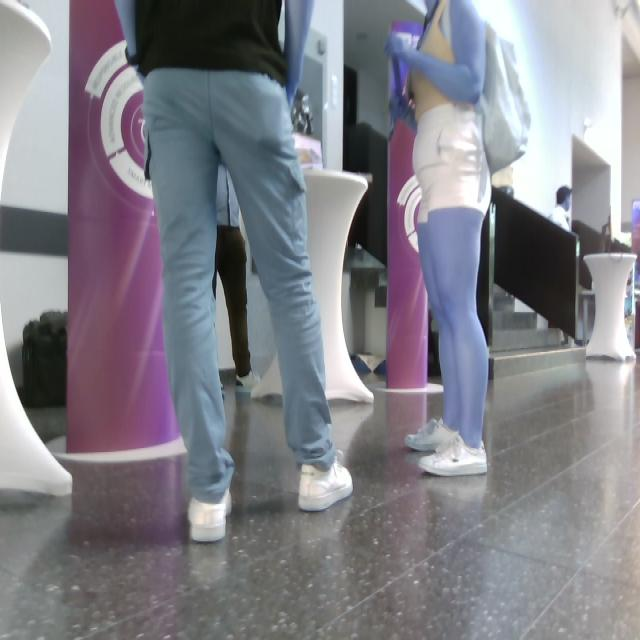backpack: (478, 22, 531, 176)
banner: (67, 1, 182, 460), (386, 22, 428, 389)
person: (117, 1, 353, 541), (388, 1, 530, 476), (550, 186, 572, 230)
staircase: (492, 189, 600, 338), (344, 124, 388, 265), (478, 213, 490, 345)
step: (491, 285, 584, 380)
table: (1, 312, 71, 494), (1, 1, 52, 197), (585, 254, 635, 360)
tiled floor: (1, 349, 640, 640)
